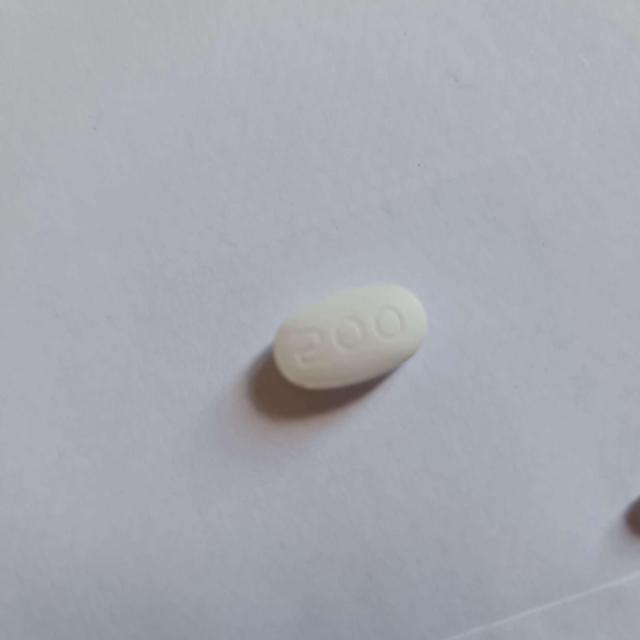pill: (273, 284, 426, 390)
